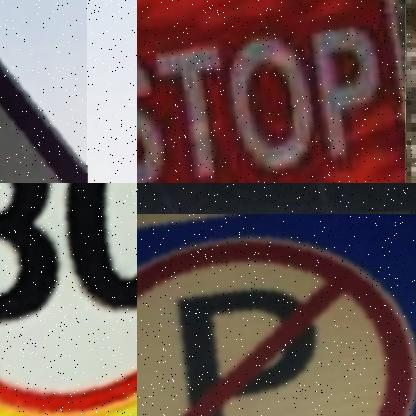No Parking: (137, 214, 416, 416)
Slow: (0, 66, 86, 183)
Speed Limit (80 kmph): (0, 183, 137, 416)
Stop 2: (137, 0, 405, 183)
